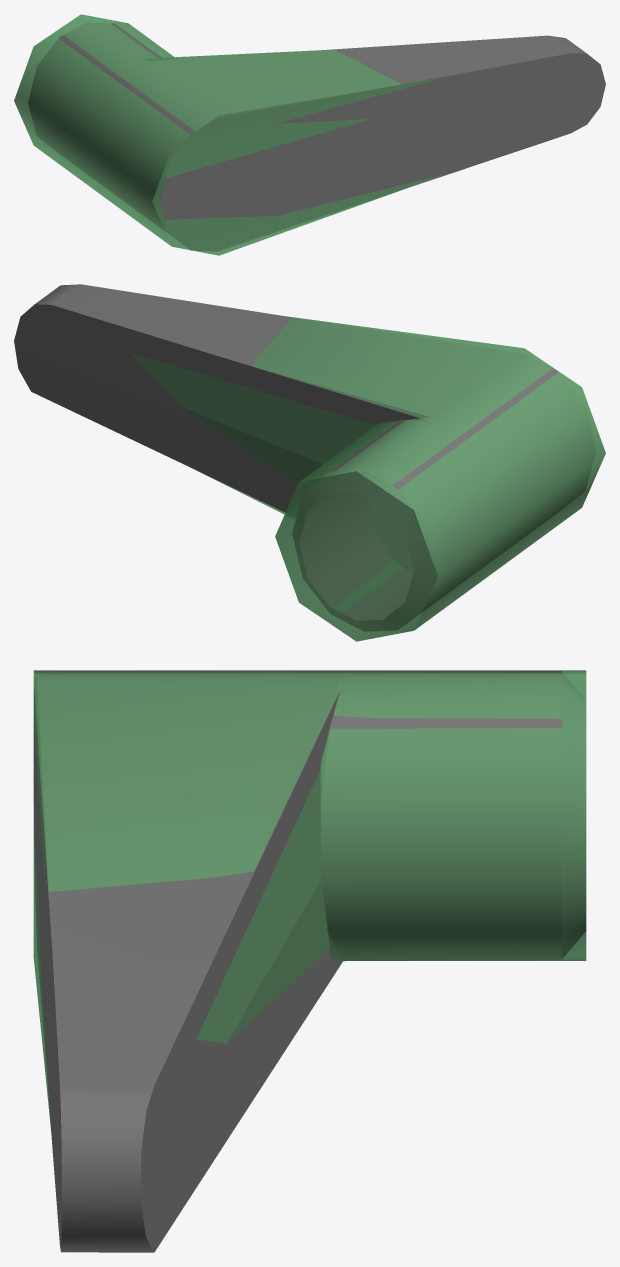
Rendered from TripodLampHandle_01_Mesh.fbx.
3 views of the same model, one above another, from view 1: azimuth 30°, elevation 25°; view 2: azimuth 150°, elevation 25°; view 3: azimuth 270°, elevation 25° (orthographic). The views are drawn at different scales.
Parts seen in each view (by area): view 1: TripodLamp_Handle_01_LOD0, TripodLamp_Handle_01_col; view 2: TripodLamp_Handle_01_LOD0, TripodLamp_Handle_01_col; view 3: TripodLamp_Handle_01_LOD0, TripodLamp_Handle_01_col.
Part boxes in pixels (x1=…): TripodLamp_Handle_01_LOD0: x1=28, y1=22, x2=605, y2=250; TripodLamp_Handle_01_col: x1=14, y1=14, x2=446, y2=255; TripodLamp_Handle_01_LOD0: x1=14, y1=284, x2=595, y2=631; TripodLamp_Handle_01_col: x1=130, y1=316, x2=605, y2=641; TripodLamp_Handle_01_LOD0: x1=33, y1=671, x2=585, y2=1252; TripodLamp_Handle_01_col: x1=33, y1=670, x2=586, y2=1138.
Size of what is drawn, in the model's own units: 0.0985 by 0.0286 by 0.0512.
